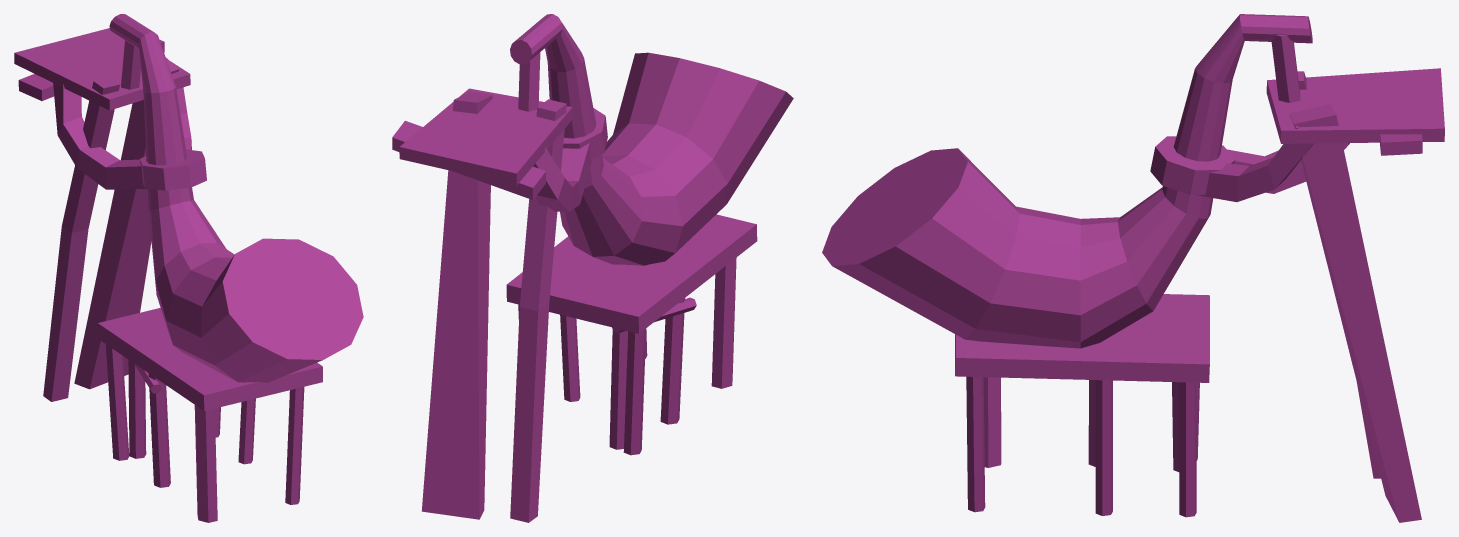
Rendered from SM_Bld_Part_Warhorn_01_Collision.fbx.
The picture shows the model from 3 angles, left to right: view 1: azimuth 30°, elevation 25°; view 2: azimuth 150°, elevation 25°; view 3: azimuth 270°, elevation 25°; orthographic projection. The views are drawn at different scales.
Parts seen in each view (by area): view 1: SM_Bld_Part_Warhorn_01_Collision; view 2: SM_Bld_Part_Warhorn_01_Collision; view 3: SM_Bld_Part_Warhorn_01_Collision.
Part boxes in pixels (x1,y1,x2,y2): SM_Bld_Part_Warhorn_01_Collision: (14, 14, 363, 522); SM_Bld_Part_Warhorn_01_Collision: (392, 14, 793, 522); SM_Bld_Part_Warhorn_01_Collision: (822, 14, 1444, 522).
Bounding box in the file's own units: 362 × 1001 × 1177.
